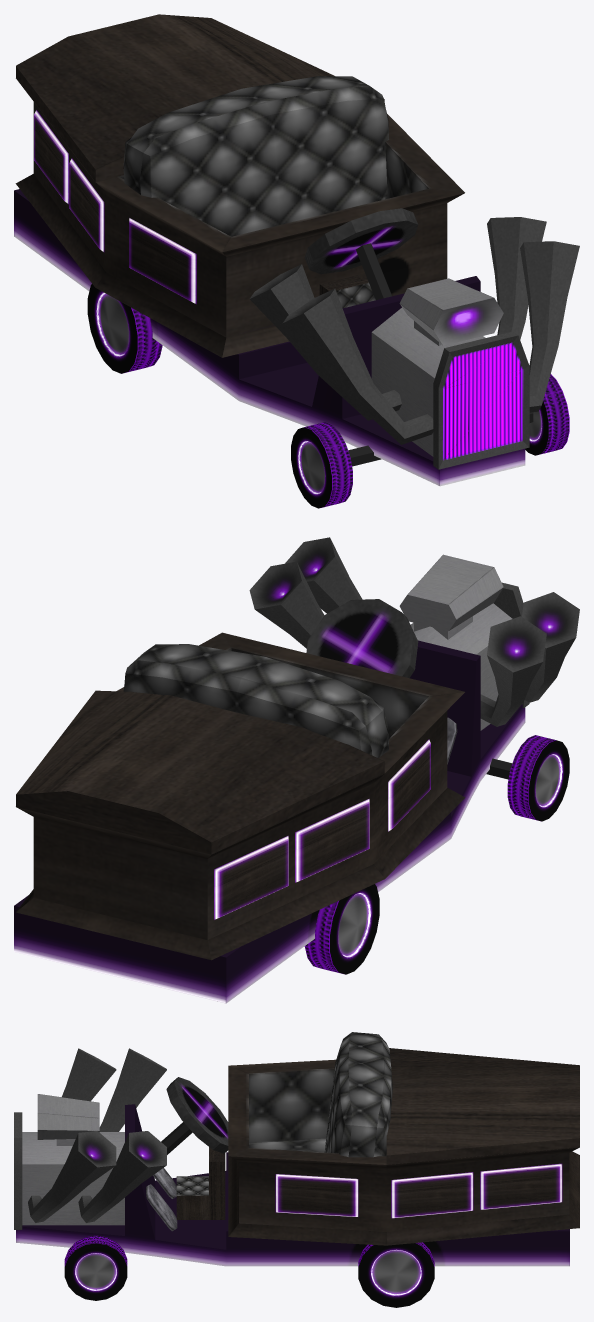
File: Coffin_Kart 1.fbx
3 renders of one model, top to bottom at view 1: azimuth 30°, elevation 25°; view 2: azimuth 150°, elevation 25°; view 3: azimuth 270°, elevation 25°, orthographic. The views are drawn at different scales.
Parts seen in each view (by area): view 1: Coffin, Engine, Chasis, Steering_Wheel, Front_Wheels1, Rear_Wheels1, Front_Wheels; view 2: Coffin, Engine, Chasis, Steering_Wheel, Rear_Wheels1, Front_Wheels1; view 3: Coffin, Engine, Chasis, Rear_Wheels, Front_Wheels, Steering_Wheel, Pedals, Pedals1.
Part boxes in pixels (x1,y1,x2,y2): Coffin: (15, 14, 464, 357); Engine: (250, 217, 579, 469); Chasis: (14, 189, 533, 486); Steering_Wheel: (304, 208, 418, 300); Front_Wheels1: (291, 422, 352, 508); Rear_Wheels1: (87, 284, 162, 373); Front_Wheels: (525, 374, 569, 455); Coffin: (16, 632, 465, 960); Engine: (249, 537, 579, 730); Chasis: (14, 640, 525, 1003); Steering_Wheel: (306, 599, 418, 678); Rear_Wheels1: (304, 884, 379, 974); Front_Wheels1: (507, 735, 569, 821); Coffin: (228, 1032, 579, 1245); Engine: (14, 1048, 166, 1229); Chasis: (16, 1104, 569, 1266); Rear_Wheels: (358, 1242, 434, 1307); Front_Wheels: (64, 1235, 127, 1300); Steering_Wheel: (161, 1077, 228, 1154); Pedals: (146, 1184, 177, 1231); Pedals1: (153, 1168, 176, 1198).
Bounding box in the file's own units: 109 × 93.09 × 239.
